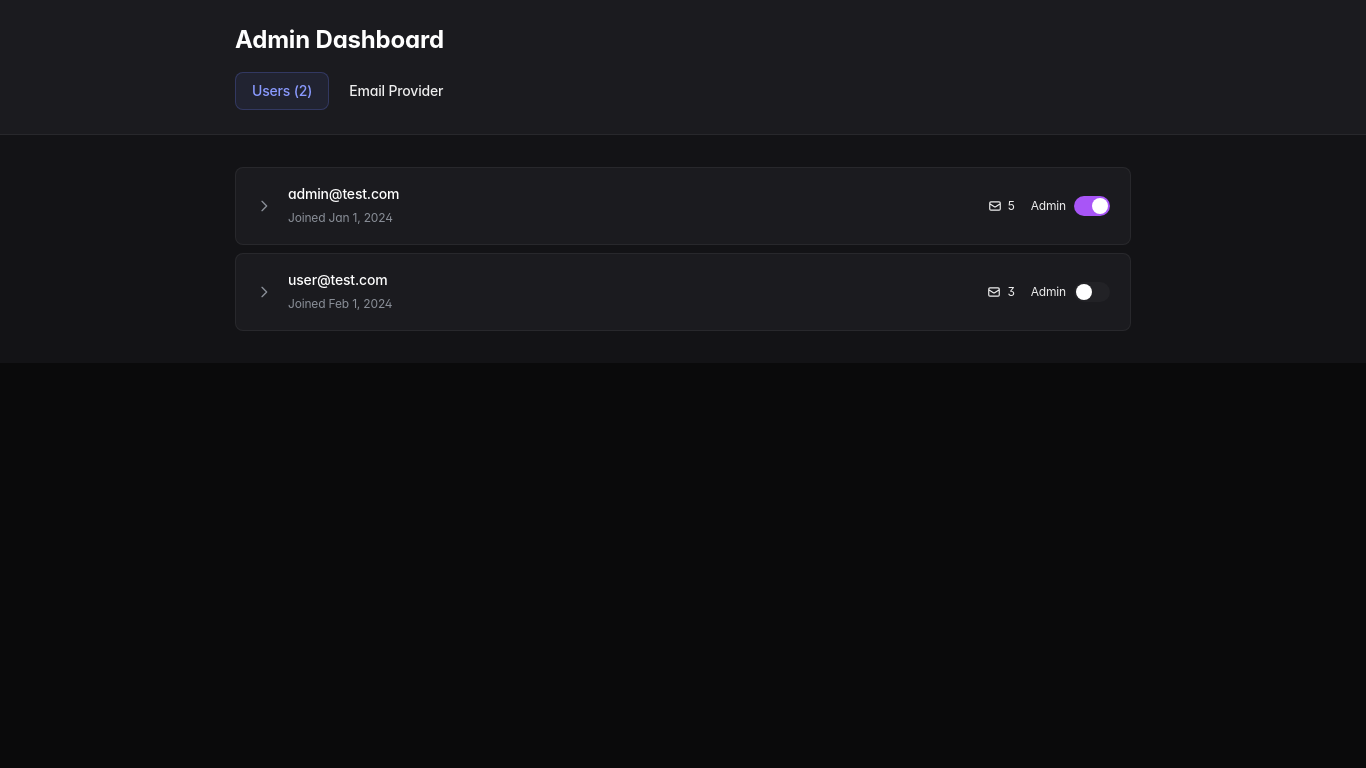
Test: Admin › expands user row to show details when clicked
# Click the user row to expand
Click the text "admin@test.com".
click(344, 194)  # box [288,185,399,202]
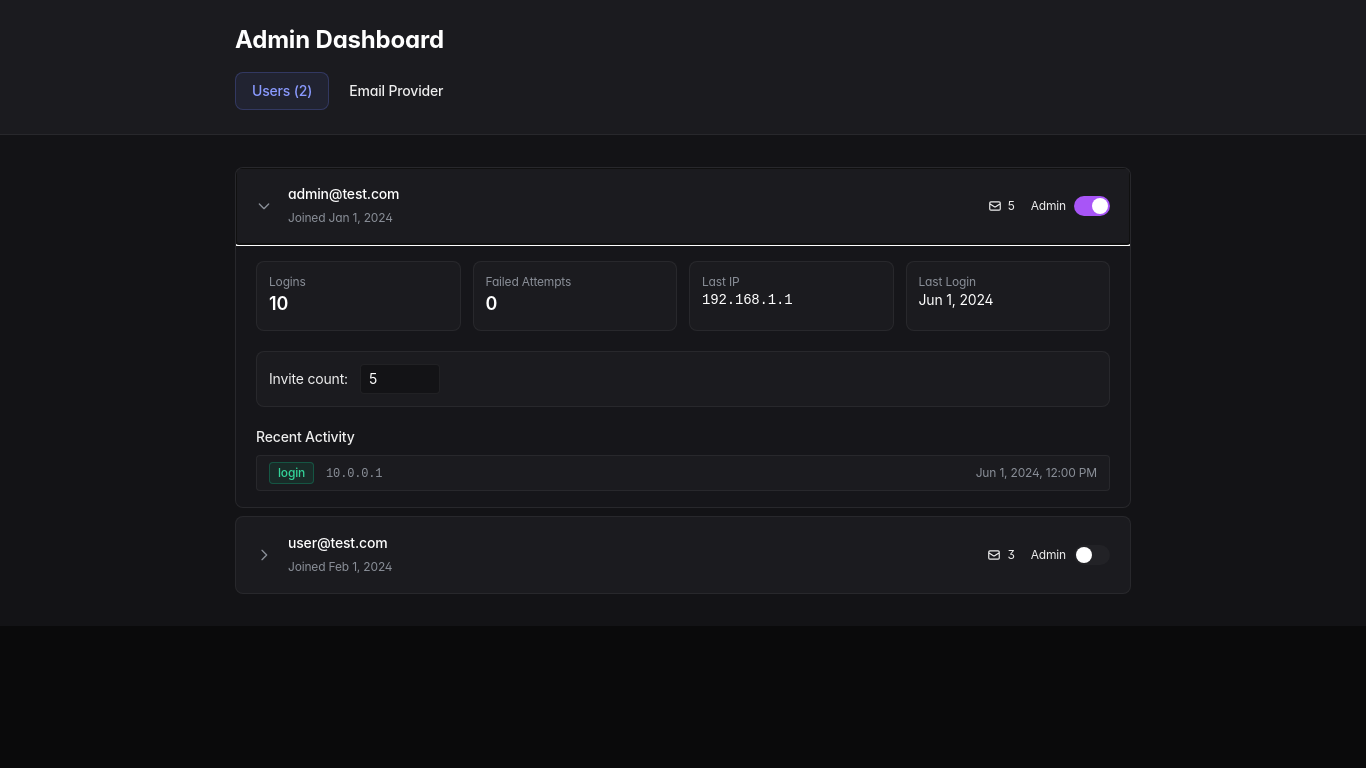
expect the text "Logins" is shown: met, box [269,274,306,289]
expect the text "10" is shown: met, box [269,293,288,314]
expect the text "Failed Attempts" is shown: met, box [486,274,571,289]
